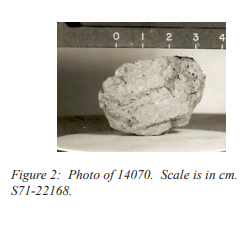Breccia: (83, 30, 228, 157)
